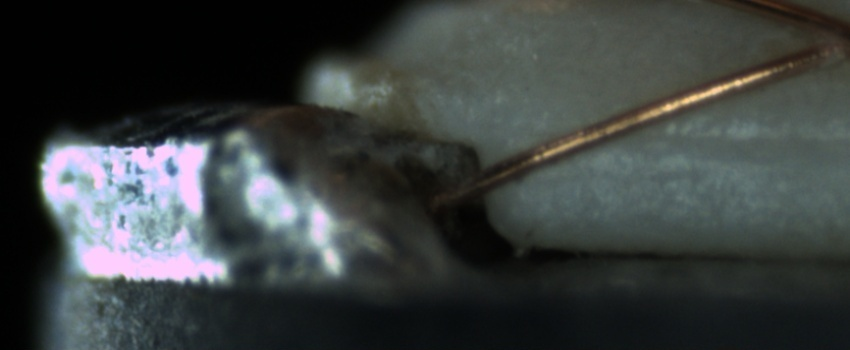DL: (608, 106, 846, 175)
